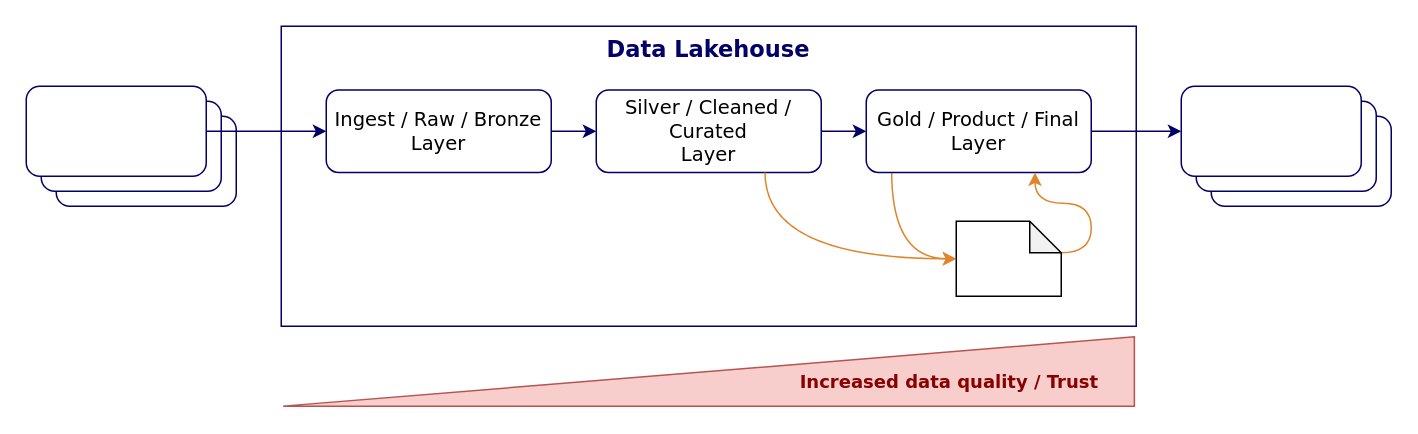
Some shapes in this 1418 by 434 pixel diagram are drawn without their labels. The shapes that lost their labels are listed below. From the top down, each one's box as (x1, y1, x2, y2) in pixels, then its label:
(25, 85, 206, 176): Source
(1180, 85, 1361, 176): Users / Consumption
(955, 220, 1061, 296): XML-File
